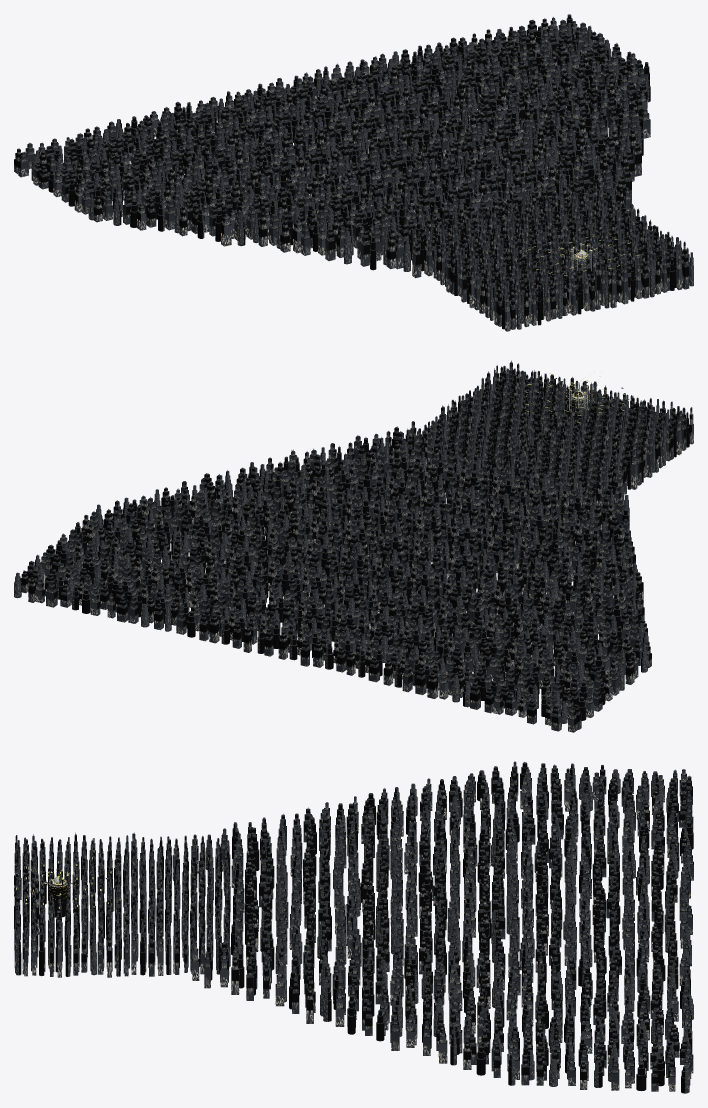
File: coruscant.glb
The picture shows the model from 3 angles, top to bottom: view 1: azimuth 30°, elevation 25°; view 2: azimuth 150°, elevation 25°; view 3: azimuth 270°, elevation 25°; orthographic projection. The views are drawn at different scales.
Bounding box in the file's own units: 1861 × 218 × 1784.
Materials: 16 (5 with a texture image).
